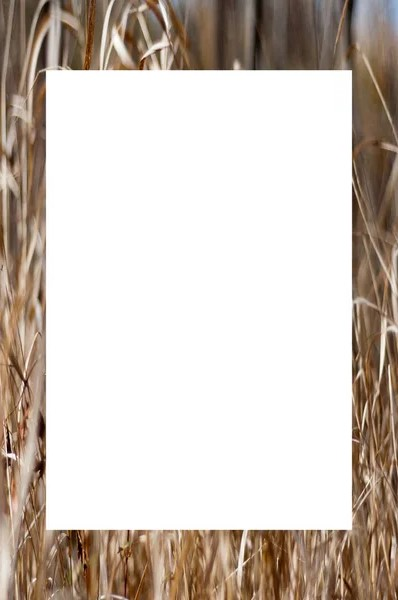page: (47, 71, 352, 530)
